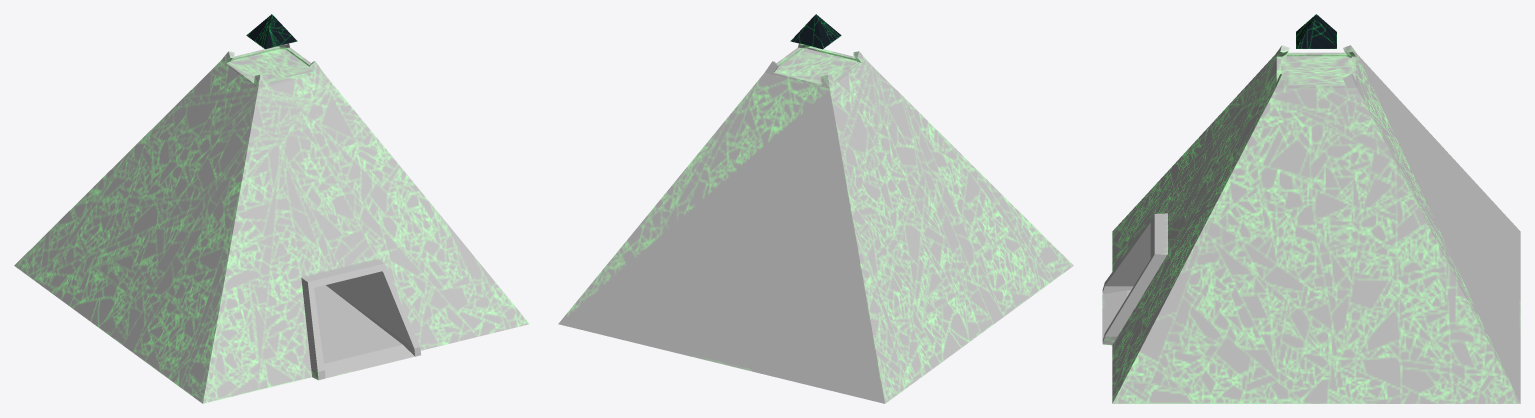
Rendered from piramide.dae.
The picture shows the model from 3 angles, left to right: view 1: azimuth 30°, elevation 25°; view 2: azimuth 150°, elevation 25°; view 3: azimuth 270°, elevation 25°; orthographic projection. The views are drawn at different scales.
Visible parts, largest first — view 1: Plane, Cube_Cube.001; view 2: Plane, Cube_Cube.001; view 3: Plane, Cube_Cube.001.
Boxes of the visible parts, x1,y1,x2,y2 form: Plane: [14, 43, 529, 403]; Cube_Cube.001: [246, 14, 297, 49]; Plane: [558, 43, 1073, 403]; Cube_Cube.001: [790, 14, 841, 49]; Plane: [1102, 45, 1520, 403]; Cube_Cube.001: [1296, 14, 1336, 48].
Size of the model in its own units: 150 by 154 by 123.
